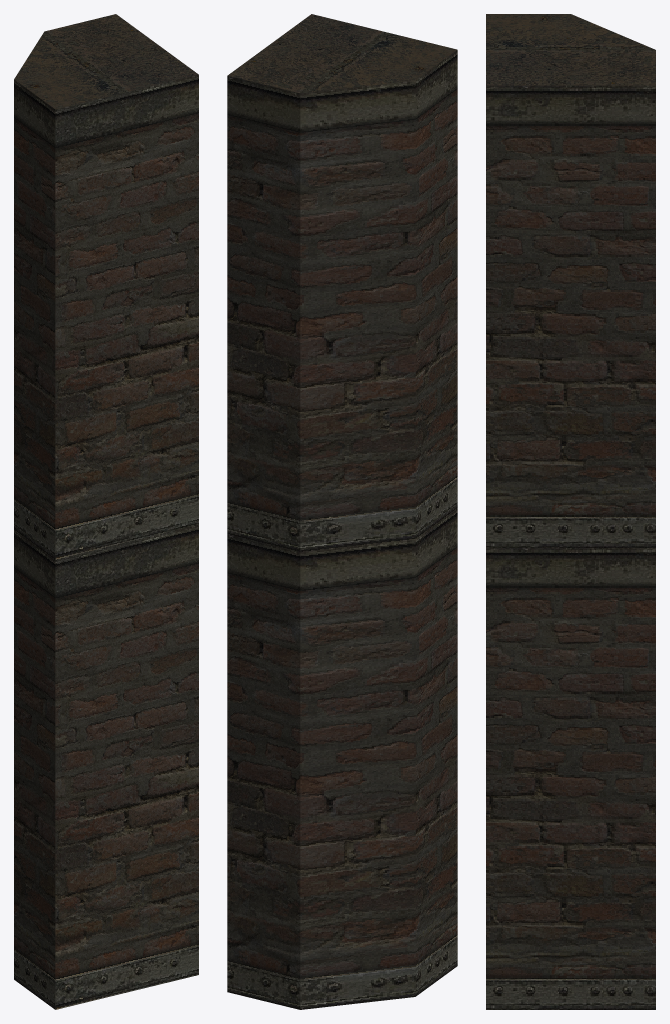
Rendered from pillar_hr_6.glb.
3 views of the same model, side by side, from view 1: azimuth 30°, elevation 25°; view 2: azimuth 150°, elevation 25°; view 3: azimuth 270°, elevation 25° (orthographic). The views are drawn at different scales.
Visible parts, largest first — view 1: pillar_hr_6; view 2: pillar_hr_6; view 3: pillar_hr_6.
Boxes of the visible parts, x1,y1,x2,y2 form: pillar_hr_6: (14,14,198,1009); pillar_hr_6: (227,14,457,1009); pillar_hr_6: (486,14,655,1009).
Bounding box in the file's own units: 1 × 6 × 1.
2 materials, 2 textured.
